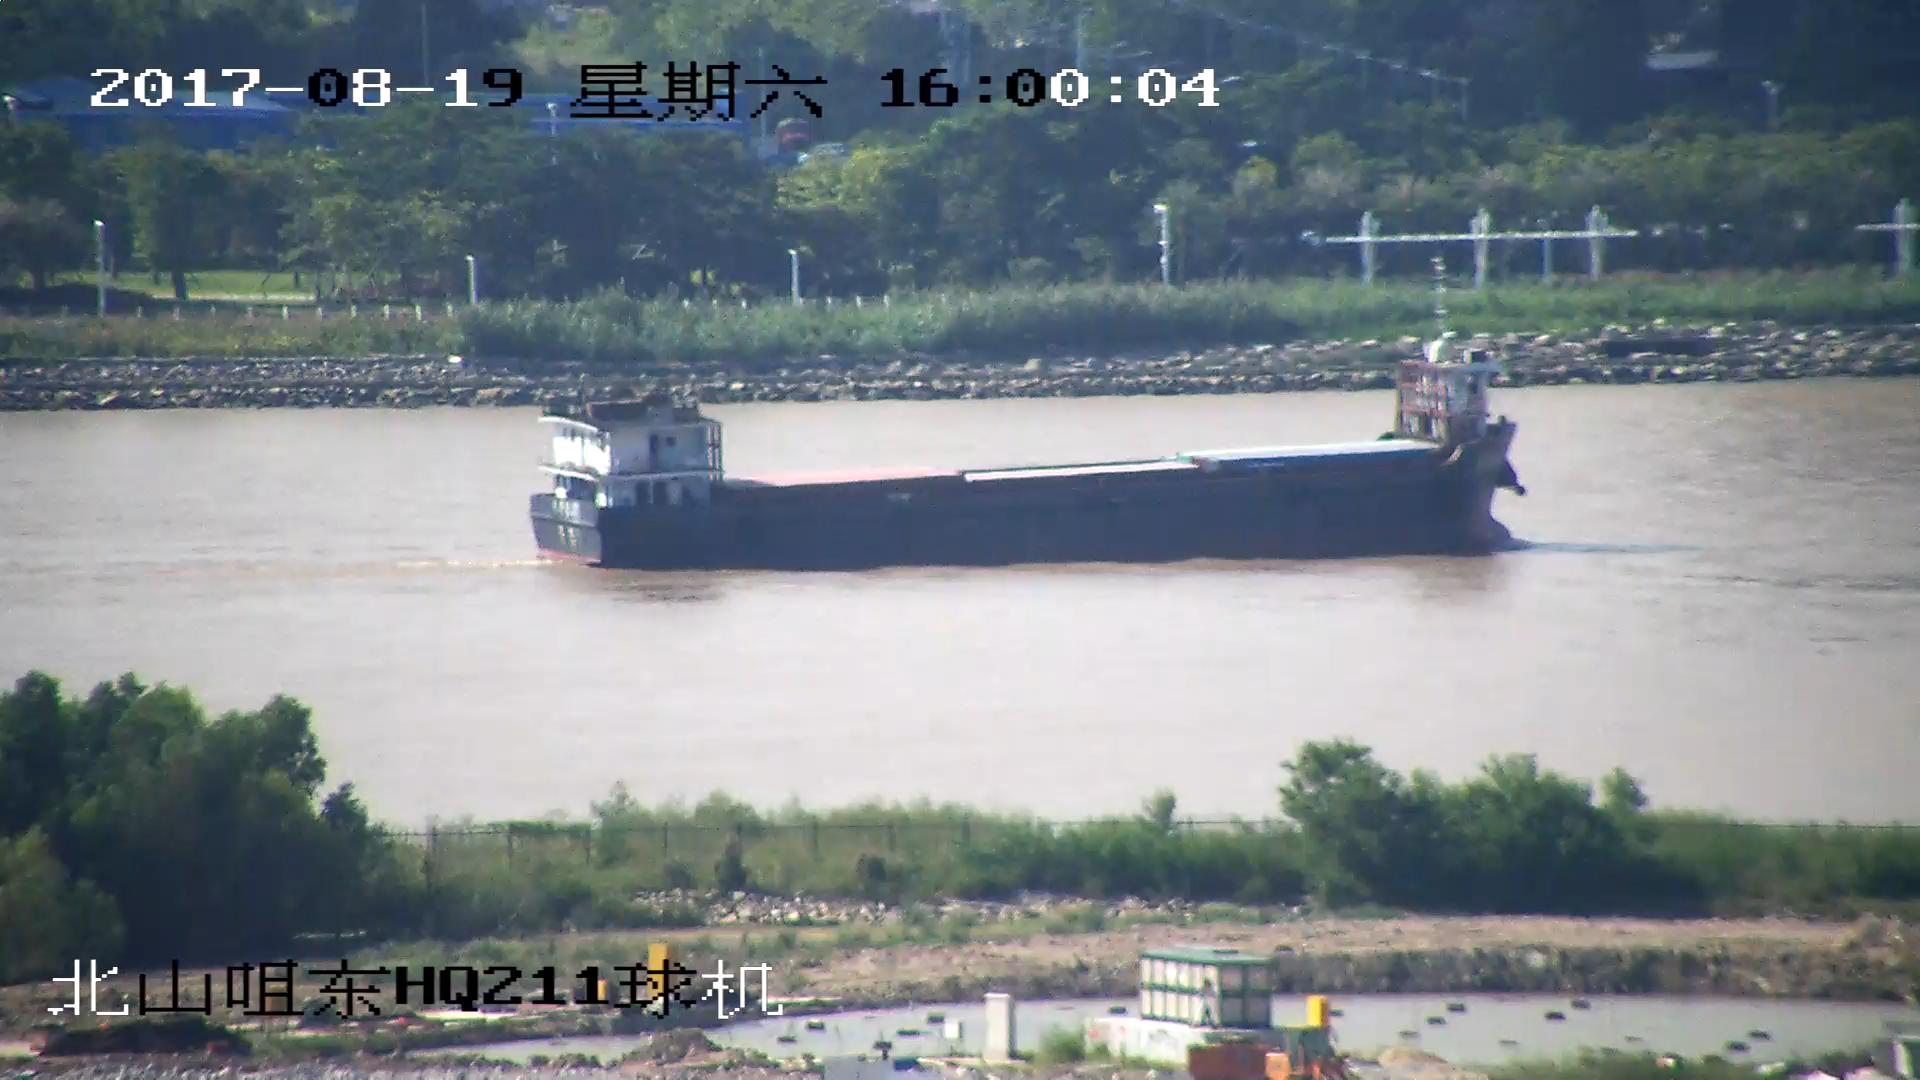general cargo ship: (529, 320, 1529, 569)
